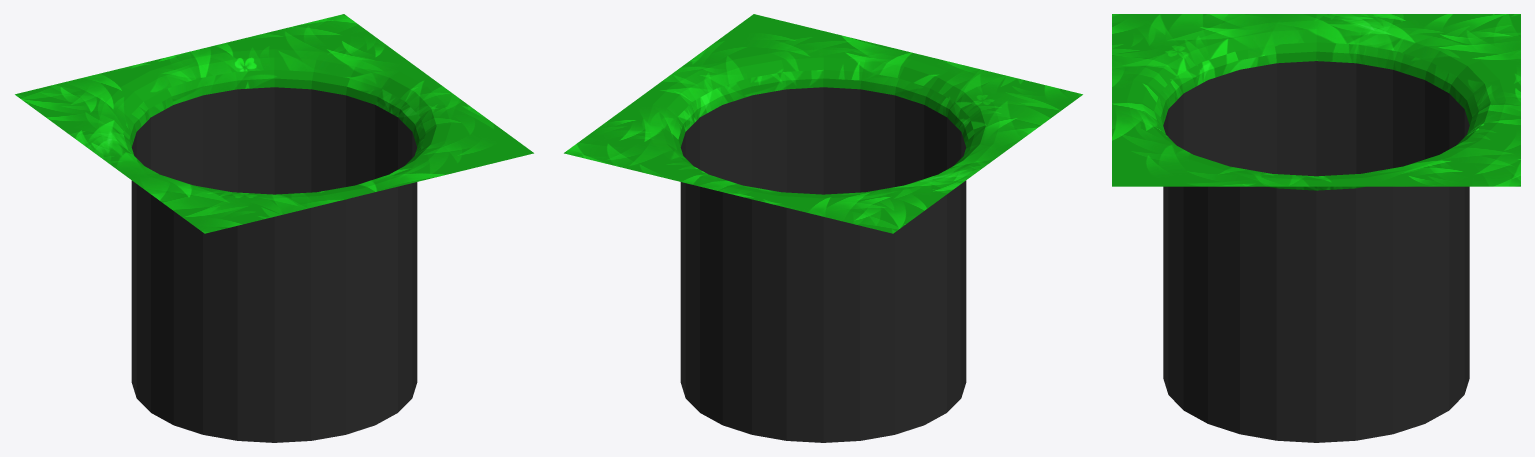
The model's file is hole.fbx.
3 renders of one model, left to right at view 1: azimuth 30°, elevation 25°; view 2: azimuth 150°, elevation 25°; view 3: azimuth 270°, elevation 25°, orthographic. The views are drawn at different scales.
Visible parts, largest first — view 1: hole; view 2: hole; view 3: hole.
Boxes of the visible parts, x1,y1,x2,y2 form: hole: [15, 14, 533, 442]; hole: [564, 14, 1082, 442]; hole: [1112, 14, 1520, 442].
Bounding box in the file's own units: 200 × 150 × 200.
2 materials, 1 textured.
